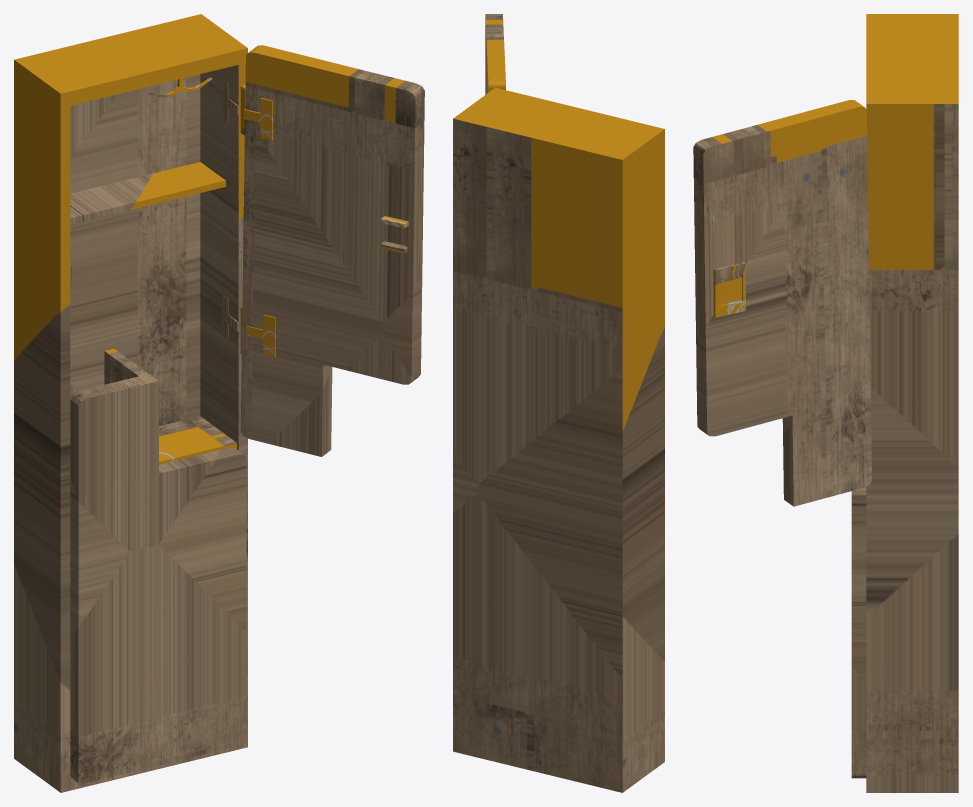
File: redo_locker.fbx
3 views of the same model, side by side, from view 1: azimuth 30°, elevation 25°; view 2: azimuth 150°, elevation 25°; view 3: azimuth 270°, elevation 25° (orthographic). The views are drawn at different scales.
Visible parts, largest first — view 1: polySurface46, polySurface58; view 2: polySurface46, polySurface58; view 3: polySurface46, polySurface58.
Part boxes in pixels (box(x1,y1,x2,y2)): polySurface46: box(14, 14, 247, 792); polySurface58: box(240, 45, 424, 456); polySurface46: box(453, 87, 664, 792); polySurface58: box(485, 14, 505, 94); polySurface46: box(851, 14, 958, 792); polySurface58: box(693, 100, 871, 506).
Bounding box in the file's own units: 0.7422 × 1.77 × 0.6149.
